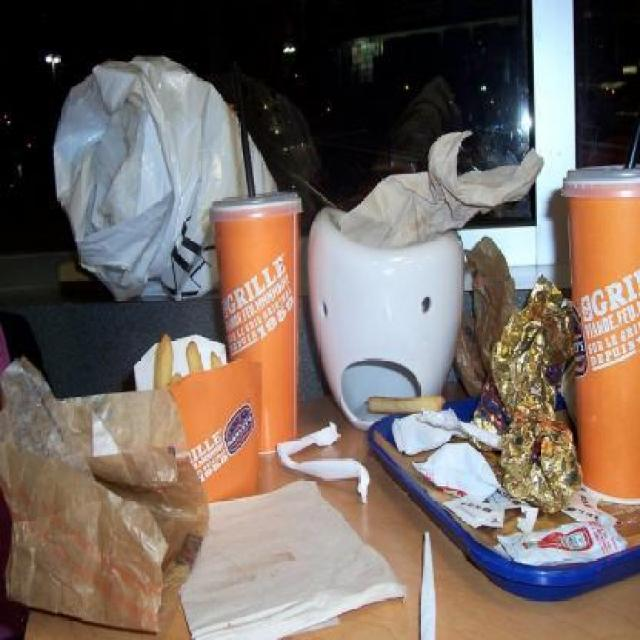plastic bag: (52, 49, 280, 296)
